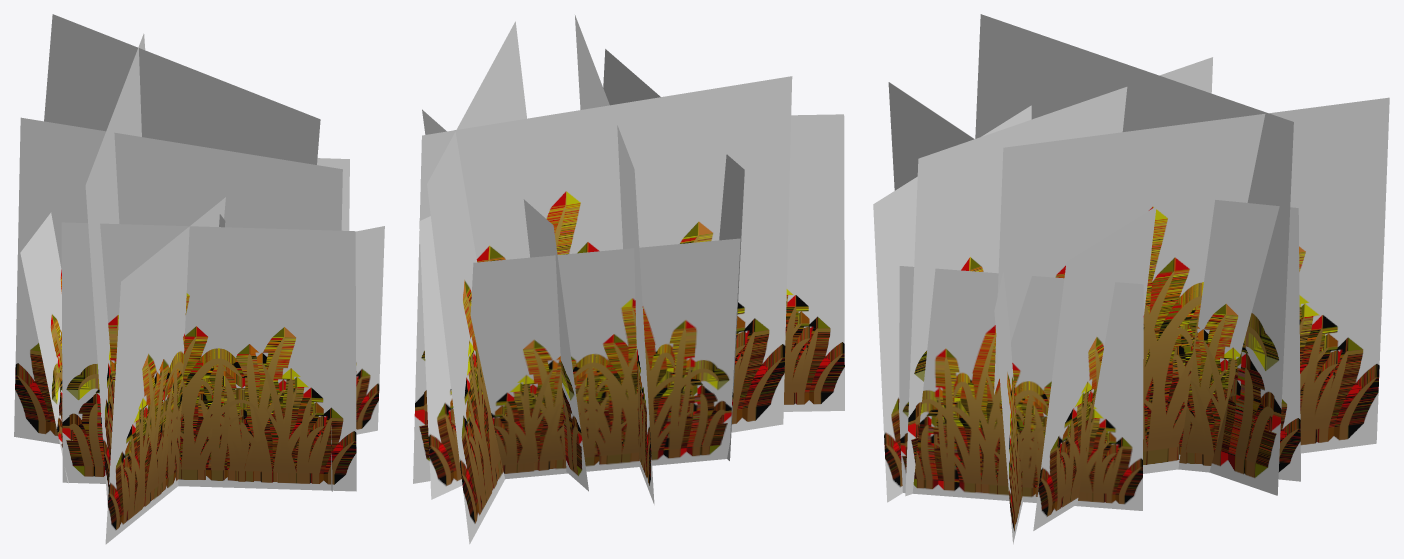
The model's file is low_grass_03.gltf.
3 views of the same model, side by side, from view 1: azimuth 30°, elevation 25°; view 2: azimuth 150°, elevation 25°; view 3: azimuth 270°, elevation 25° (orthographic). The views are drawn at different scales.
Parts seen in each view (by area): view 1: default; view 2: default; view 3: default.
Part boxes in pixels (<box>): default: <box>14,14,384,544</box>; default: <box>413,15,844,544</box>; default: <box>873,14,1389,544</box>.
Size of the model in its own units: 0.8227 by 0.8109 by 1.04.
1 material, 1 textured.
